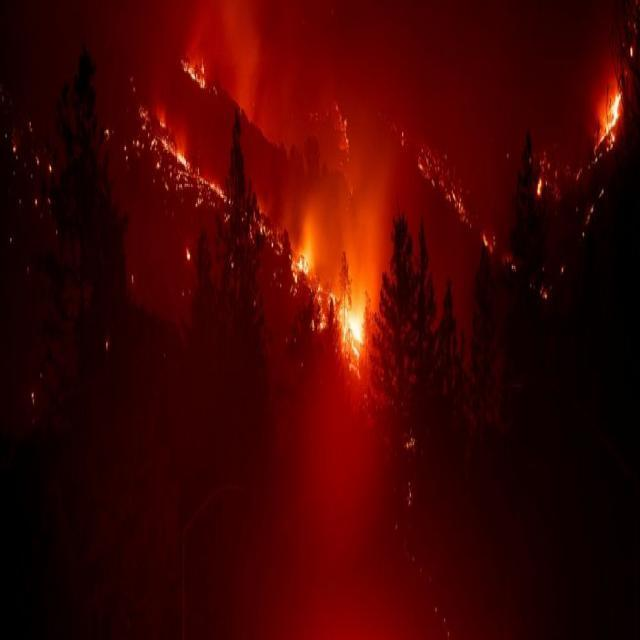Fire: (150, 46, 237, 208), (288, 249, 370, 357), (592, 78, 628, 156)
